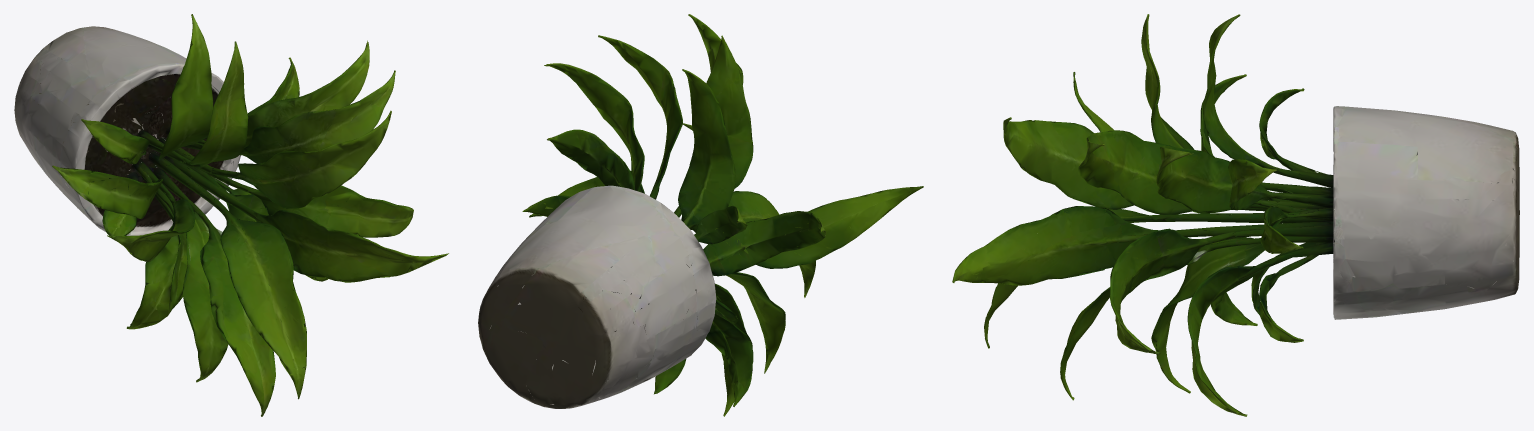
Rendered from potted_plant.glb.
3 renders of one model, left to right at view 1: azimuth 30°, elevation 25°; view 2: azimuth 150°, elevation 25°; view 3: azimuth 270°, elevation 25°, orthographic. The views are drawn at different scales.
Visible parts, largest first — view 1: Object_2; view 2: Object_2; view 3: Object_2.
Part boxes in pixels (x1,y1,x2,y2): Object_2: (14,14,448,416); Object_2: (478,14,923,416); Object_2: (952,14,1519,416).
Bounding box in the file's own units: 0.7669 × 0.7455 × 0.9812.
Materials: 1 (1 with a texture image).
